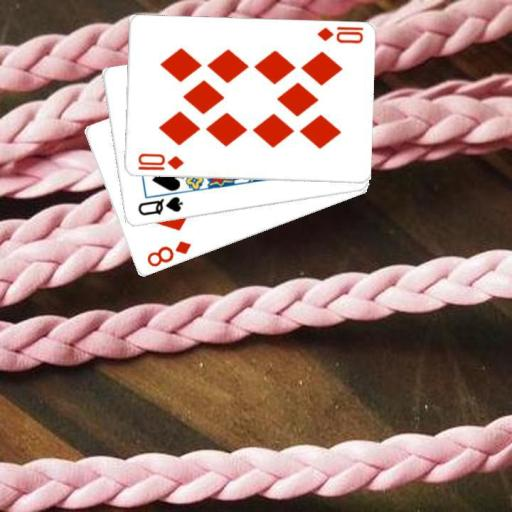10D: (313, 24, 365, 46), (134, 151, 185, 172)
8D: (144, 237, 193, 269)
QS: (135, 194, 185, 218)
